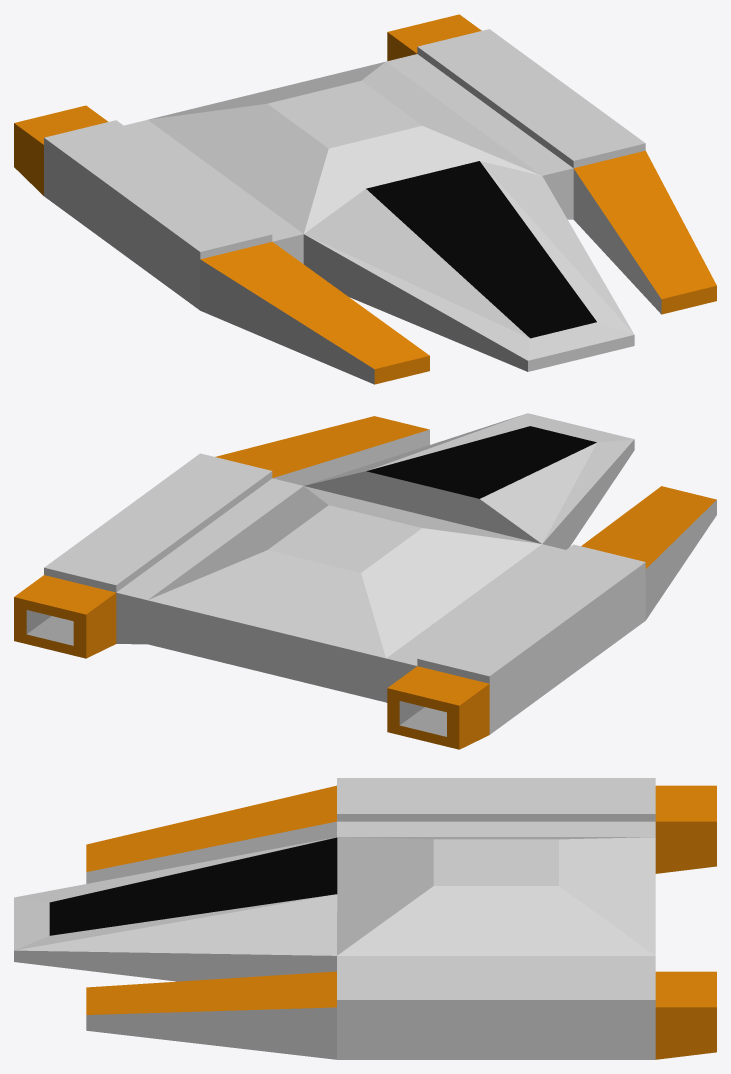
File: B_Spaceship_1.fbx
The picture shows the model from 3 angles, top to bottom: view 1: azimuth 30°, elevation 25°; view 2: azimuth 150°, elevation 25°; view 3: azimuth 270°, elevation 25°; orthographic projection. The views are drawn at different scales.
Visible parts, largest first — view 1: pCube1; view 2: pCube1; view 3: pCube1.
Boxes of the visible parts, x1,y1,x2,y2 form: pCube1: (14, 14, 716, 384); pCube1: (14, 413, 716, 749); pCube1: (14, 778, 716, 1059).
Bounding box in the file's own units: 0.1059 × 0.1418 × 0.0192.
